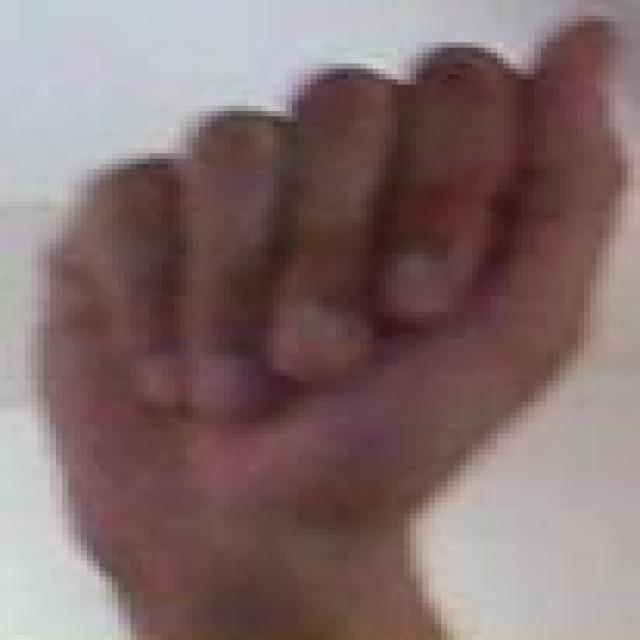A: (2, 1, 639, 635)
